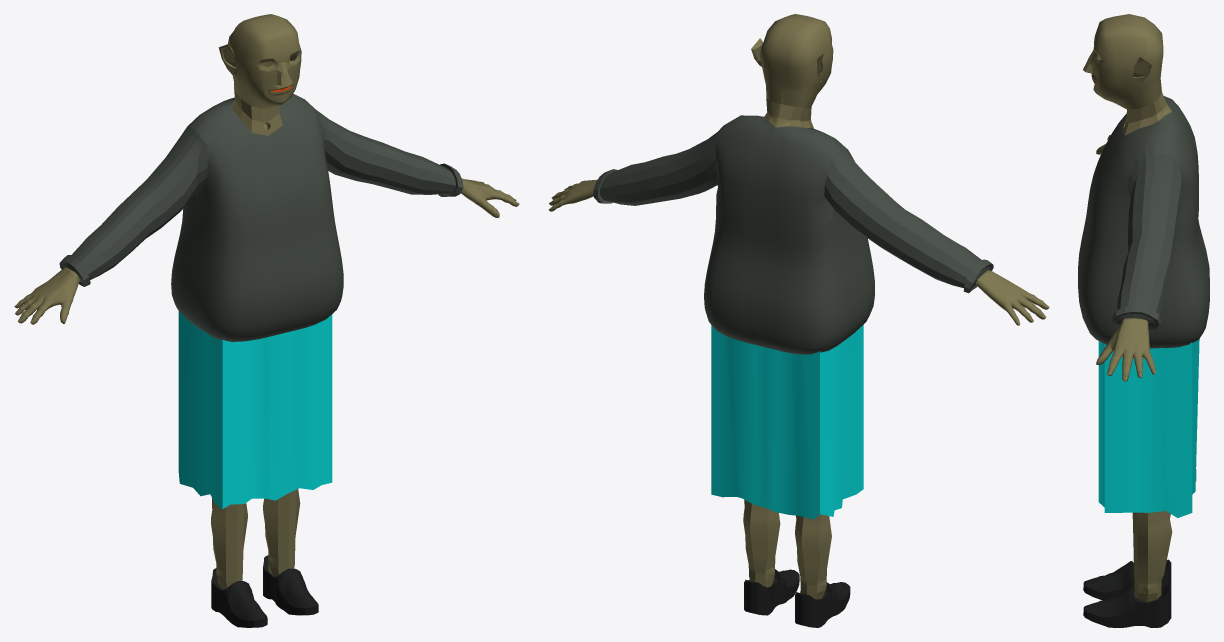
The model's file is omiwirdanim.fbx.
3 renders of one model, left to right at view 1: azimuth 30°, elevation 25°; view 2: azimuth 150°, elevation 25°; view 3: azimuth 270°, elevation 25°, orthographic.
Visible parts, largest first — view 1: polySurface37; view 2: polySurface37; view 3: polySurface37.
Boxes of the visible parts, box(x1,y1,x2,y2) form: polySurface37: box(14, 14, 519, 627); polySurface37: box(548, 14, 1049, 627); polySurface37: box(1078, 14, 1209, 627).
Bounding box in the file's own units: 9.94 × 11.27 × 2.29.
